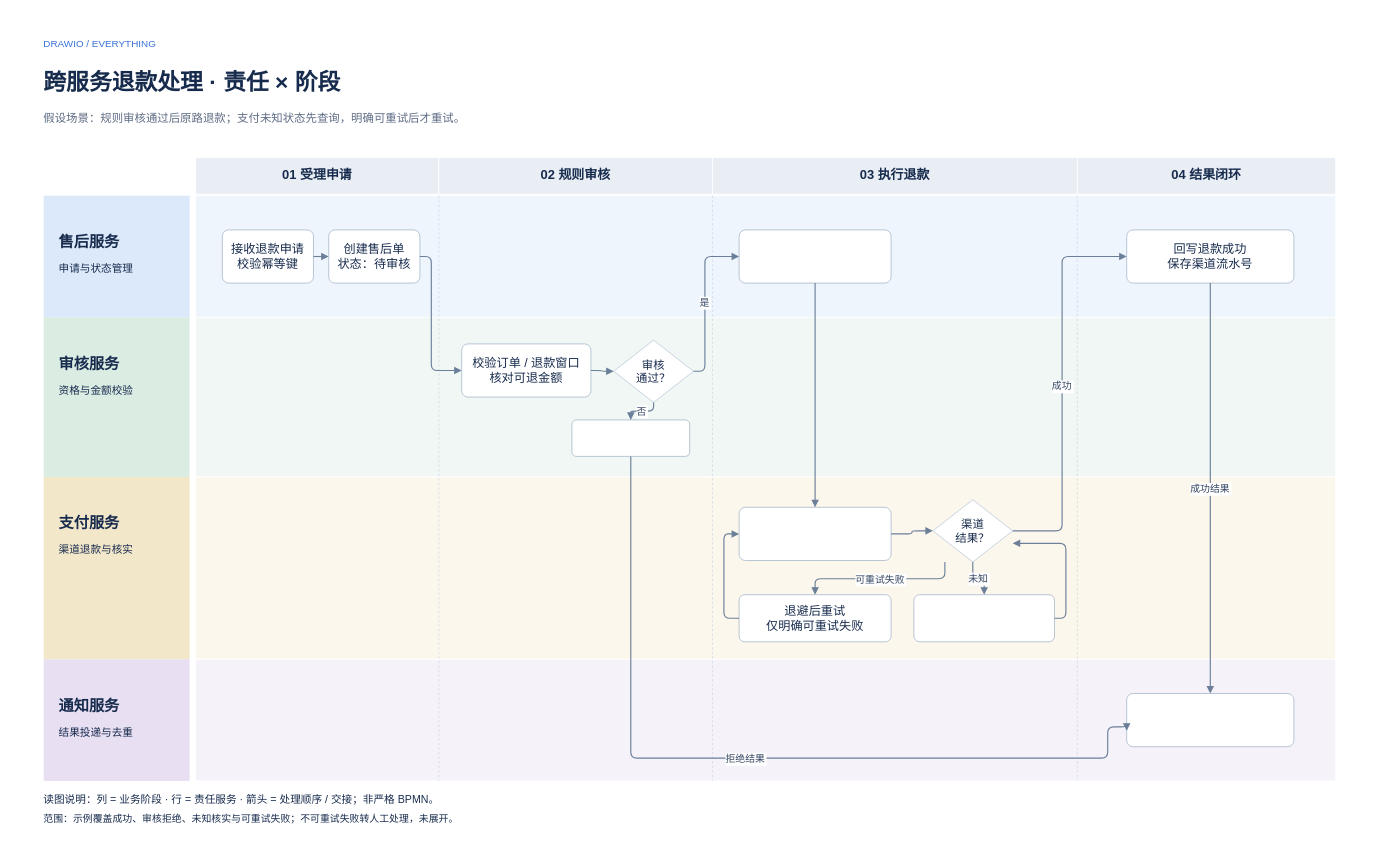
Some shapes in this 1394 by 862 pixel diagram are drawn without their labels. Here are the shapes that lost their labels. From the top down, the centre of each, then its label:
[814,256]: 创建退款指令 固定退款请求号
[630,437]: 记录拒绝原因
[814,533]: 提交渠道退款 复用同一请求号
[983,618]: 查询渠道终态 未知则继续核实
[1210,720]: 发送结果通知 按售后单 + 结果版本去重
